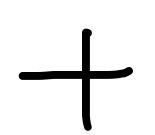plus: (19, 29, 133, 131)
